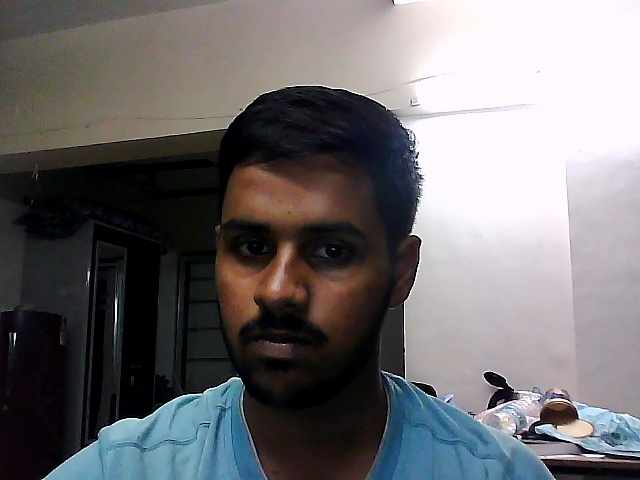awake: (189, 78, 436, 418)
